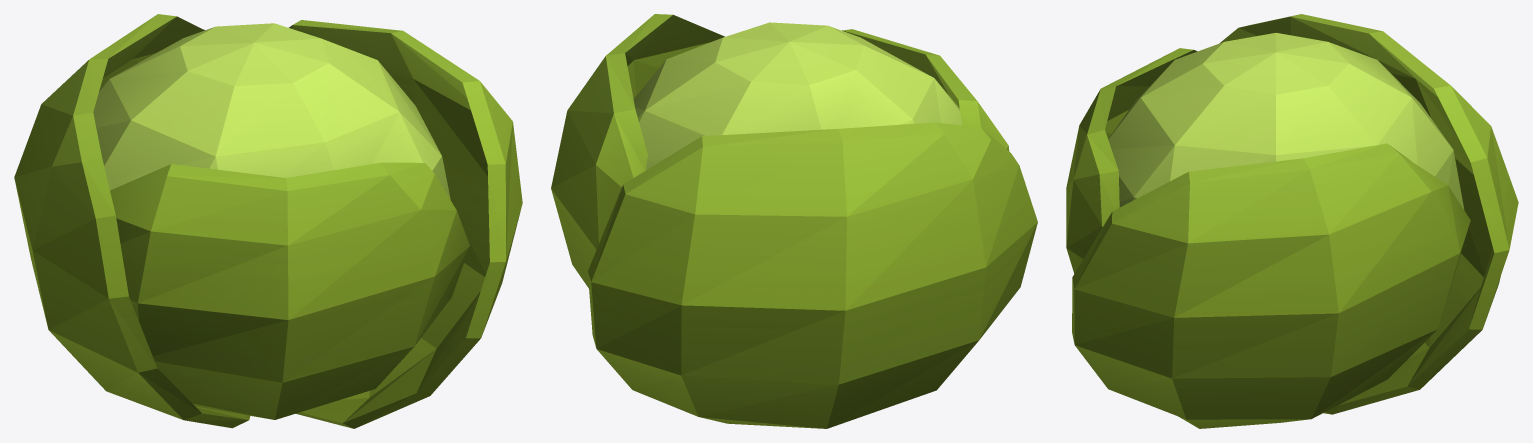
Rendered from crop_cabbage_stage2.glb.
3 views of the same model, side by side, from view 1: azimuth 30°, elevation 25°; view 2: azimuth 150°, elevation 25°; view 3: azimuth 270°, elevation 25° (orthographic). The views are drawn at different scales.
Visible parts, largest first — view 1: crop_cabbage_stage2; view 2: crop_cabbage_stage2; view 3: crop_cabbage_stage2.
Part boxes in pixels (x1,y1,x2,y2): crop_cabbage_stage2: (14,14,522,428); crop_cabbage_stage2: (551,14,1037,428); crop_cabbage_stage2: (1066,14,1518,428).
Bounding box in the file's own units: 0.2079 × 0.17 × 0.2013.
Materials: 1 (1 with a texture image).
